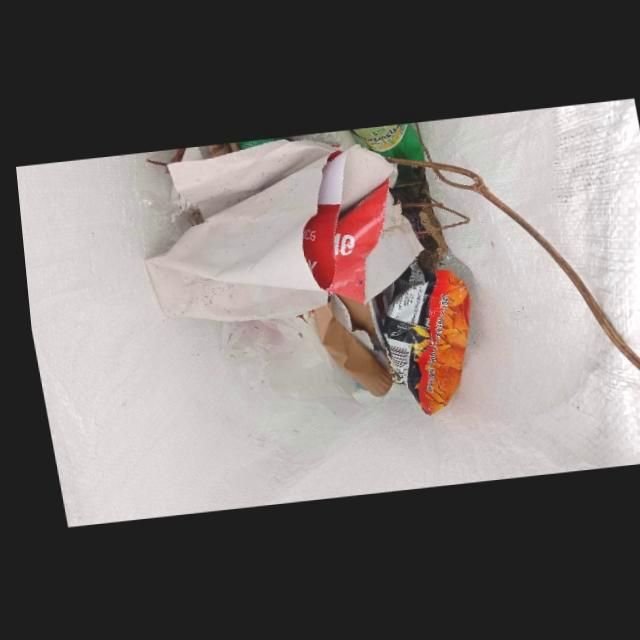cardboard: (302, 299, 385, 399)
food_wrapper: (363, 264, 465, 417)
paper: (138, 140, 418, 323)
plastic_bottle: (347, 125, 421, 164)
